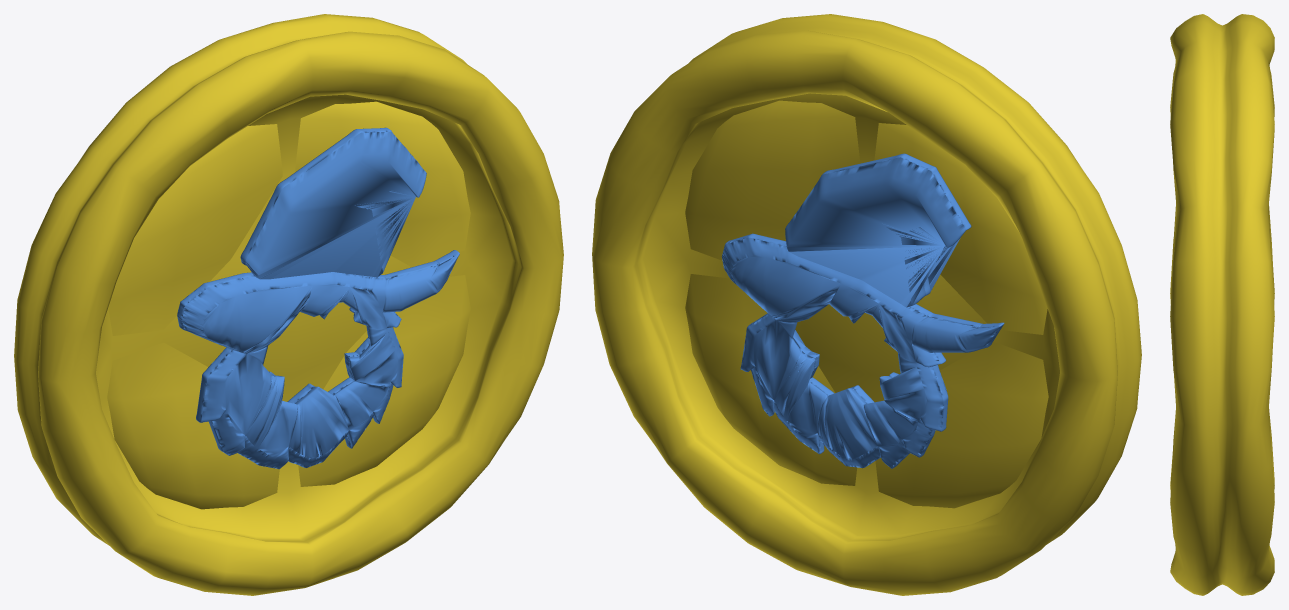
The model's file is coinSmooth.fbx.
The picture shows the model from 3 angles, left to right: view 1: azimuth 30°, elevation 25°; view 2: azimuth 150°, elevation 25°; view 3: azimuth 270°, elevation 25°; orthographic projection. The views are drawn at different scales.
Visible parts, largest first — view 1: CoinMesh1; view 2: CoinMesh1; view 3: CoinMesh1.
Part boxes in pixels (x1=…): CoinMesh1: x1=14, y1=14, x2=563, y2=595; CoinMesh1: x1=592, y1=14, x2=1141, y2=595; CoinMesh1: x1=1170, y1=14, x2=1274, y2=595.
Bounding box in the file's own units: 0.0849 × 0.0849 × 0.0153.
